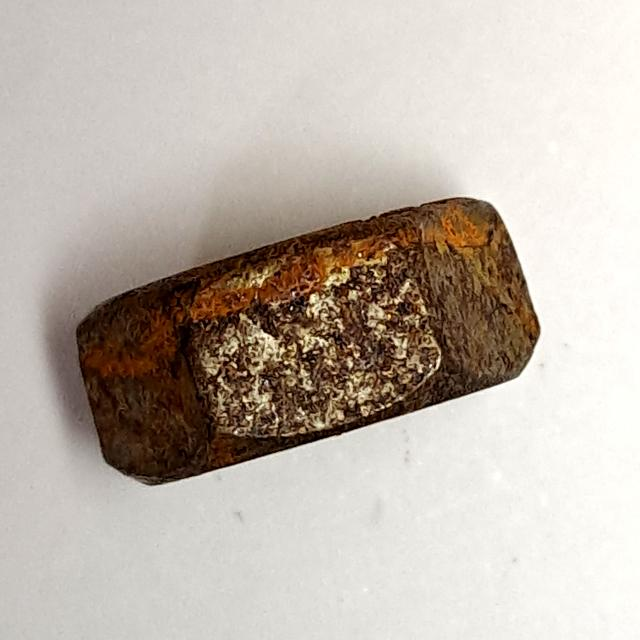Side_Rust: (60, 182, 557, 499)
